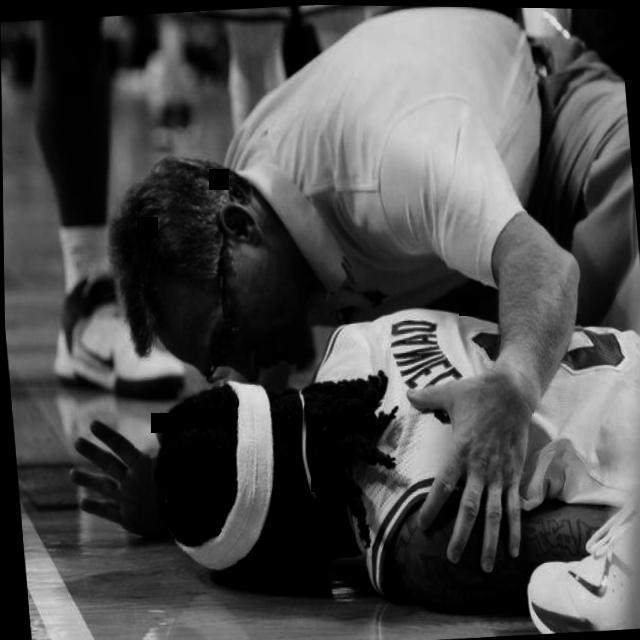Fall-Detected: (83, 258, 640, 640)
